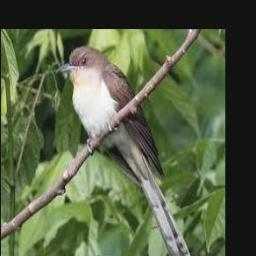Cuckoo: (58, 47, 191, 256)
